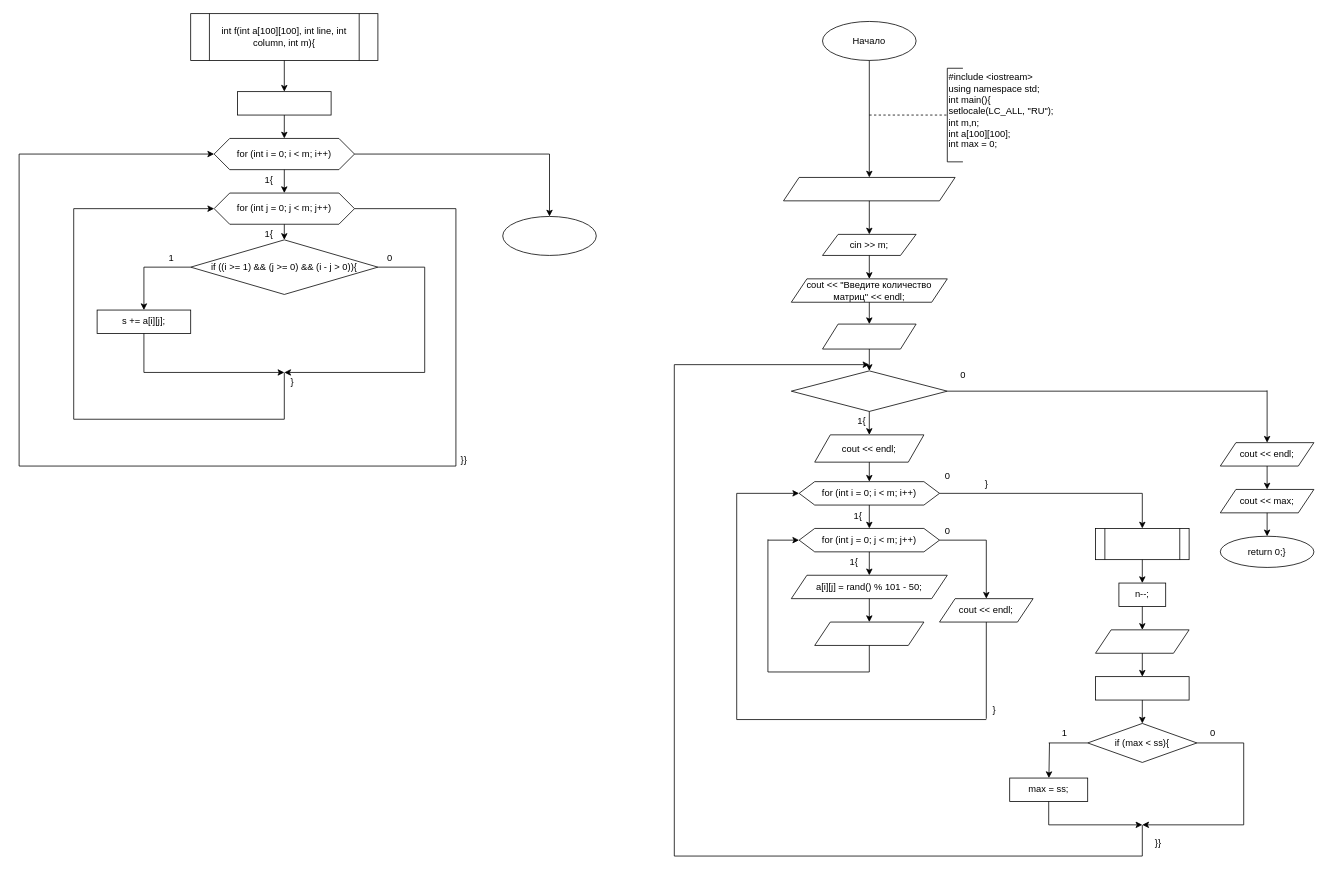
Some shapes in this 1328 by 870 pixel diagram are drawn without their labels. The shapes that lost their labels are listed below. From the top down, each one's box as (x1, y1, x2, y2) in pixels, then its label:
(237, 91, 331, 115): int s = 0;
(783, 177, 955, 201): cout << "Введите размерность матрицы" << endl;
(502, 216, 596, 255): return s;}
(822, 323, 916, 349): cin >> n;
(791, 370, 947, 411): while (n > 0){
(1095, 528, 1189, 560): f(a, n, n, m);
(814, 621, 924, 645): cout << a[i][j] << " ";
(1095, 629, 1189, 653): cout << f(a, n, n, m);
(1095, 676, 1189, 700): int ss = f(a, n, n, m);
